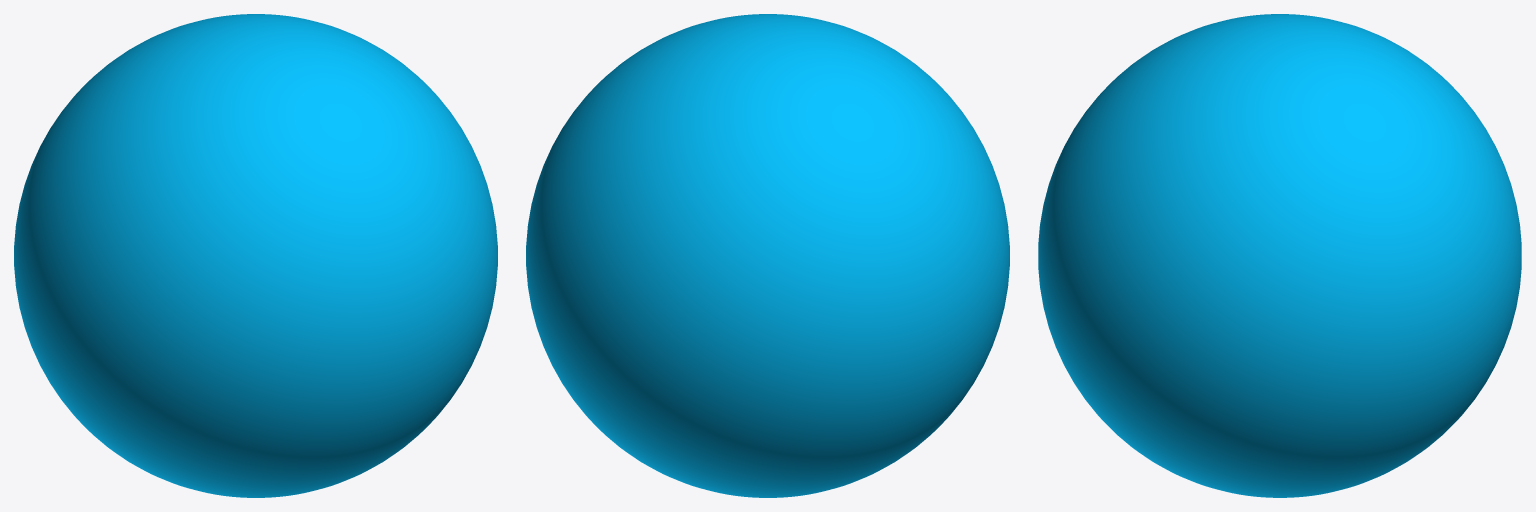
Rendered from workplane-7.gltf.
The picture shows the model from 3 angles, left to right: view 1: azimuth 30°, elevation 25°; view 2: azimuth 150°, elevation 25°; view 3: azimuth 270°, elevation 25°; orthographic projection.
Parts seen in each view (by area): view 1: Gövde; view 2: Gövde; view 3: Gövde.
Part boxes in pixels (x1,y1,x2,y2): Gövde: (14, 14, 497, 497); Gövde: (526, 14, 1009, 497); Gövde: (1038, 14, 1521, 497).
Size of the model in its own units: 0.03 by 0.03 by 0.03.
